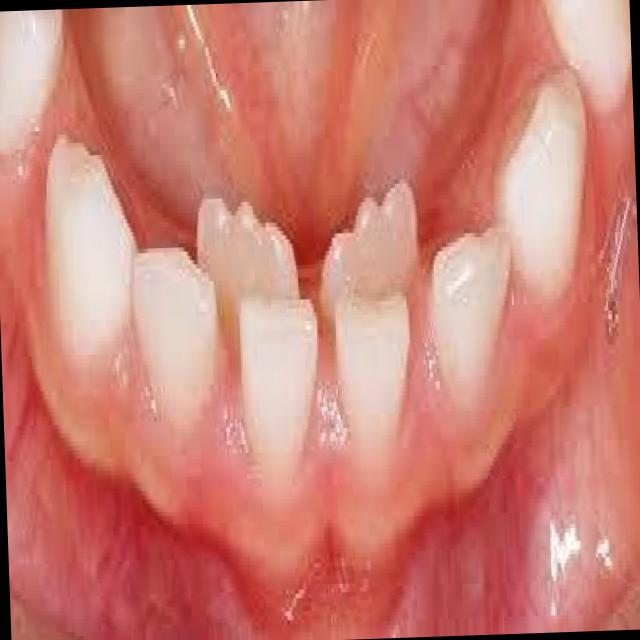Tooth: (42, 130, 139, 376), (493, 65, 589, 308), (196, 198, 299, 383), (133, 247, 219, 429), (429, 223, 512, 405), (239, 297, 317, 482), (333, 291, 412, 461), (320, 179, 419, 307), (0, 9, 65, 158), (541, 0, 629, 107)
